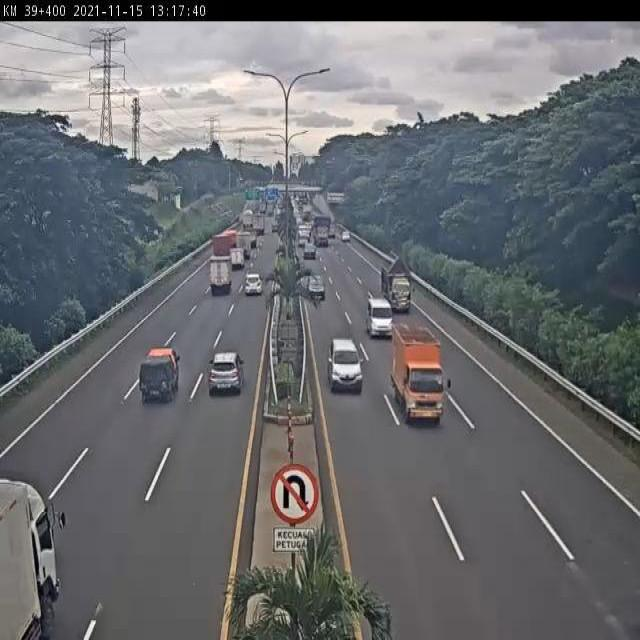car: (202, 347, 247, 392), (331, 340, 364, 393), (363, 295, 395, 340), (306, 271, 327, 300), (244, 271, 263, 296)
truck-m-: (3, 477, 62, 640), (209, 250, 236, 298)
truck-s-: (391, 319, 447, 428), (137, 344, 181, 404), (379, 252, 415, 316)
